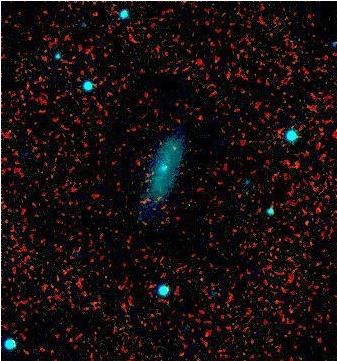star: (175, 191, 205, 221)
